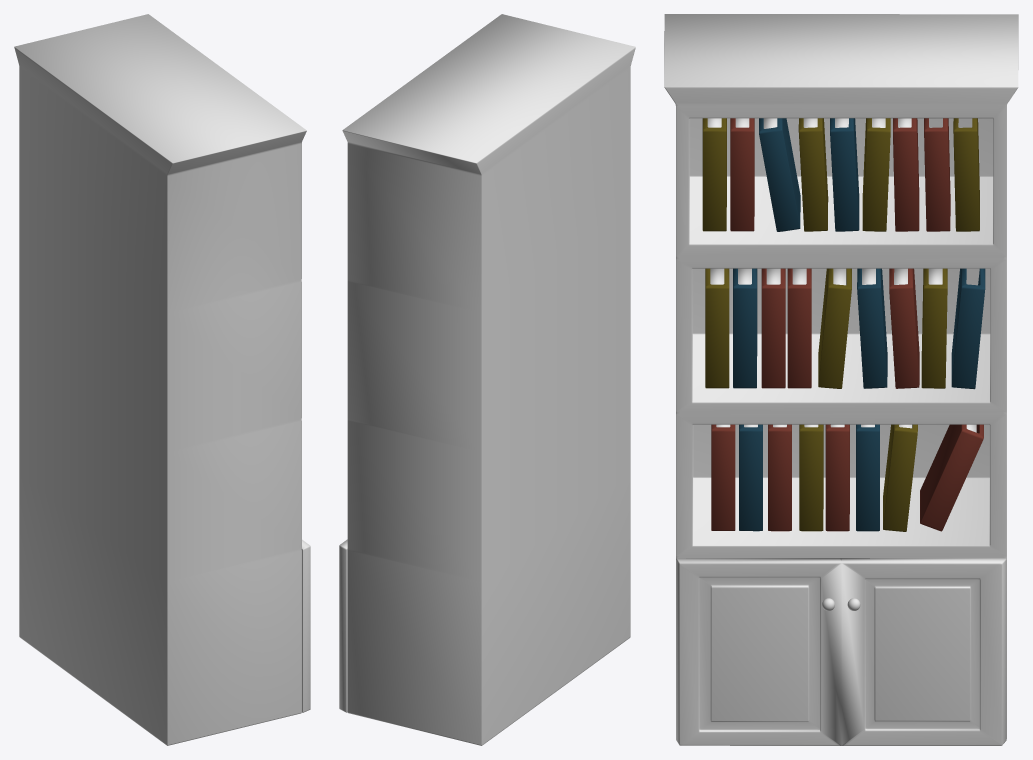
The model's file is hondana_2.fbx.
3 renders of one model, left to right at view 1: azimuth 30°, elevation 25°; view 2: azimuth 150°, elevation 25°; view 3: azimuth 270°, elevation 25°, orthographic. The views are drawn at different scales.
Visible parts, largest first — view 1: 立方体.073; view 2: 立方体.073; view 3: 立方体.073.
Boxes of the visible parts, x1=… form: 立方体.073: x1=14, y1=14, x2=310, y2=745; 立方体.073: x1=339, y1=14, x2=635, y2=745; 立方体.073: x1=664, y1=14, x2=1018, y2=745.
Bounding box in the file's own units: 30.27 × 109 × 53.8.
